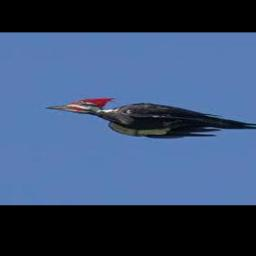Woodpecker: (45, 97, 256, 138)
